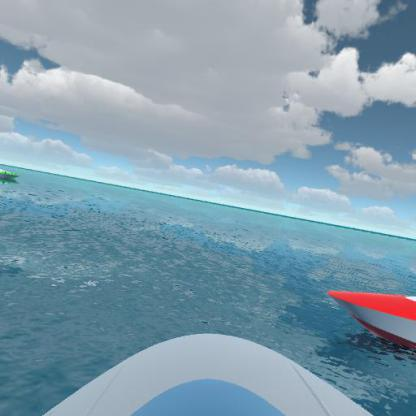usv0: (0, 163, 28, 181)
usv3: (326, 275, 415, 351)
